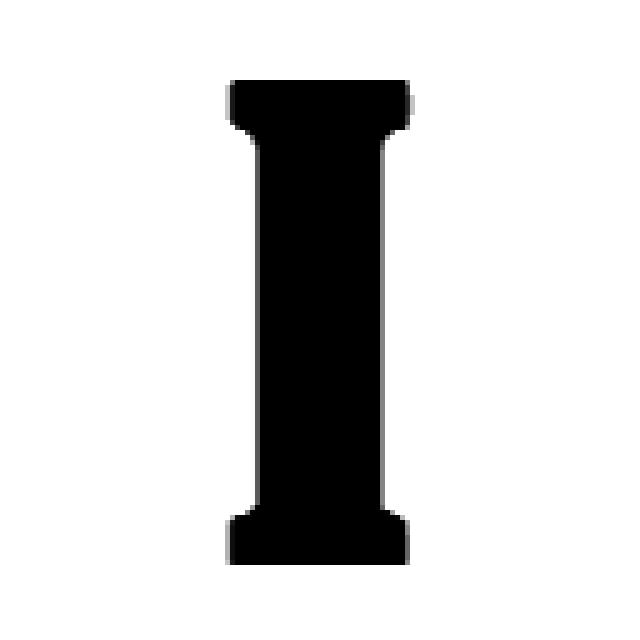I: (225, 80, 410, 565)
